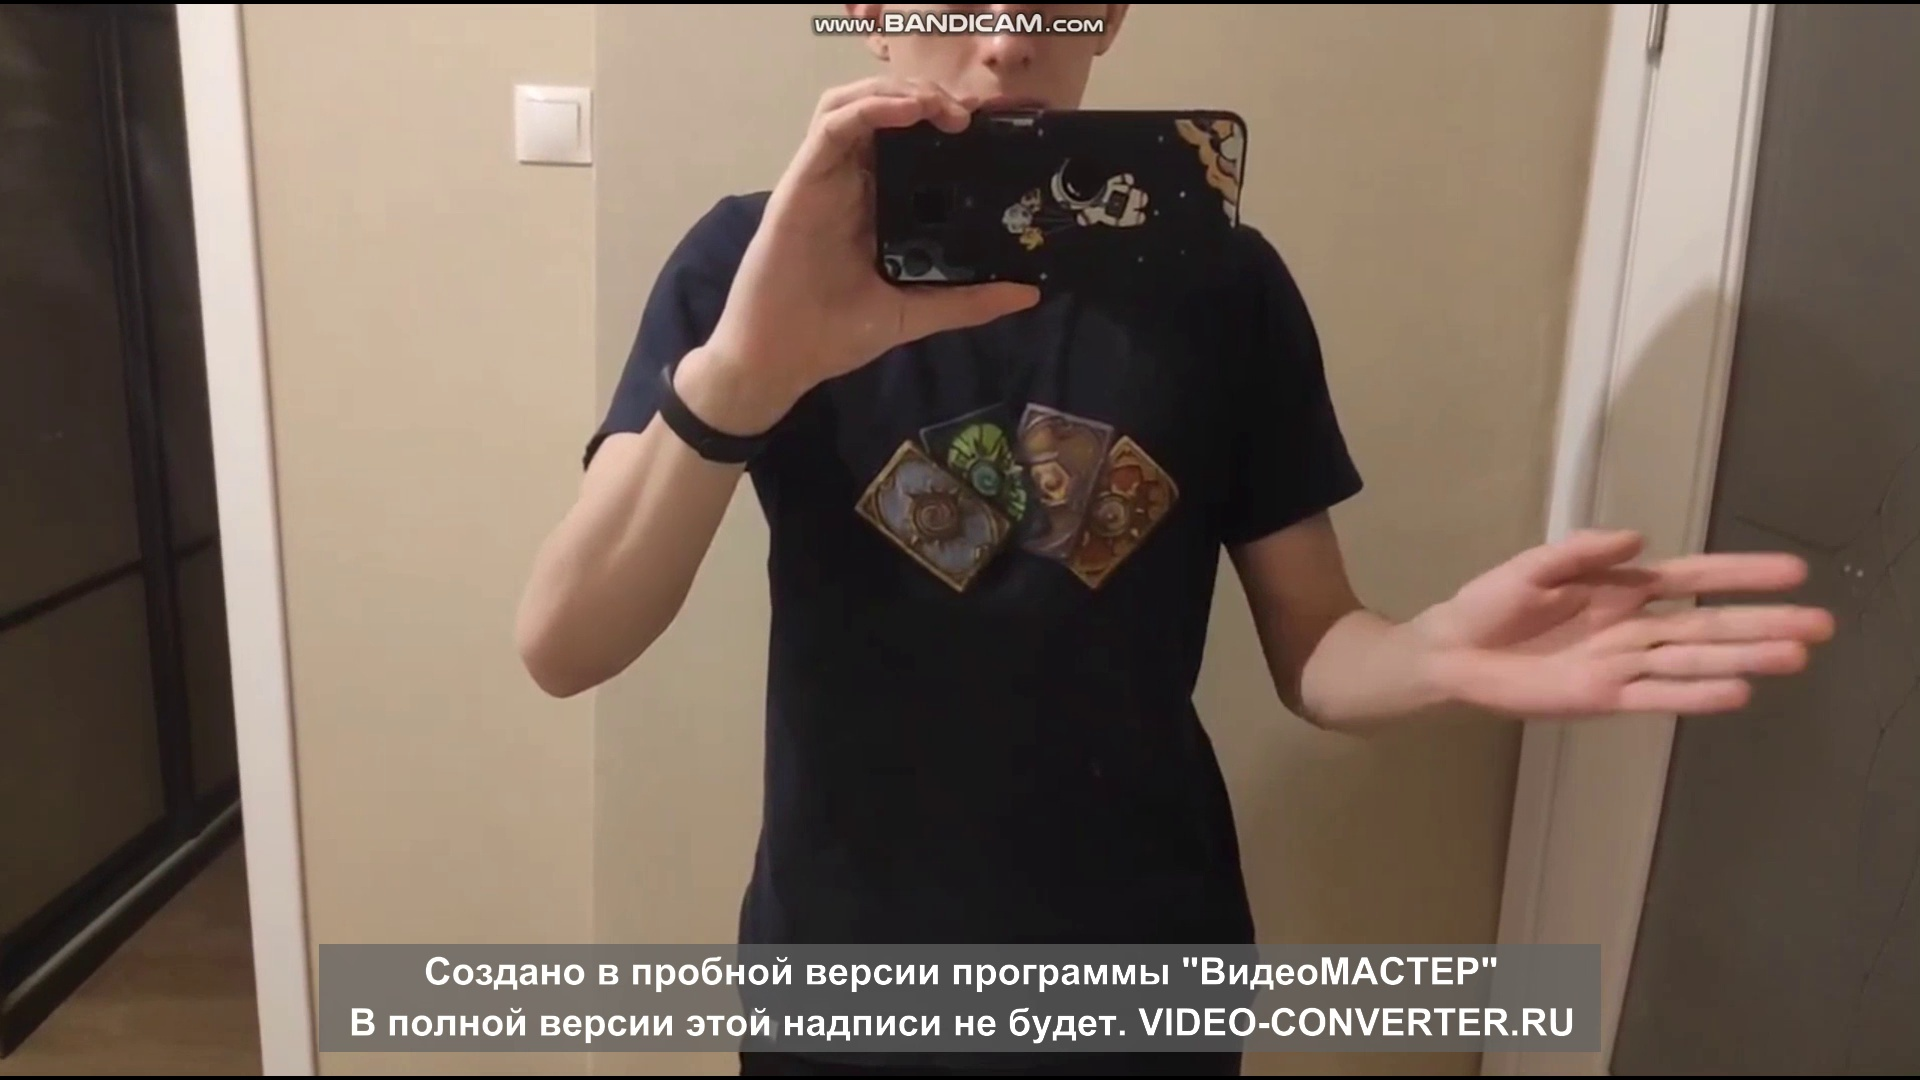Ладонь: (1455, 529, 1838, 715)
